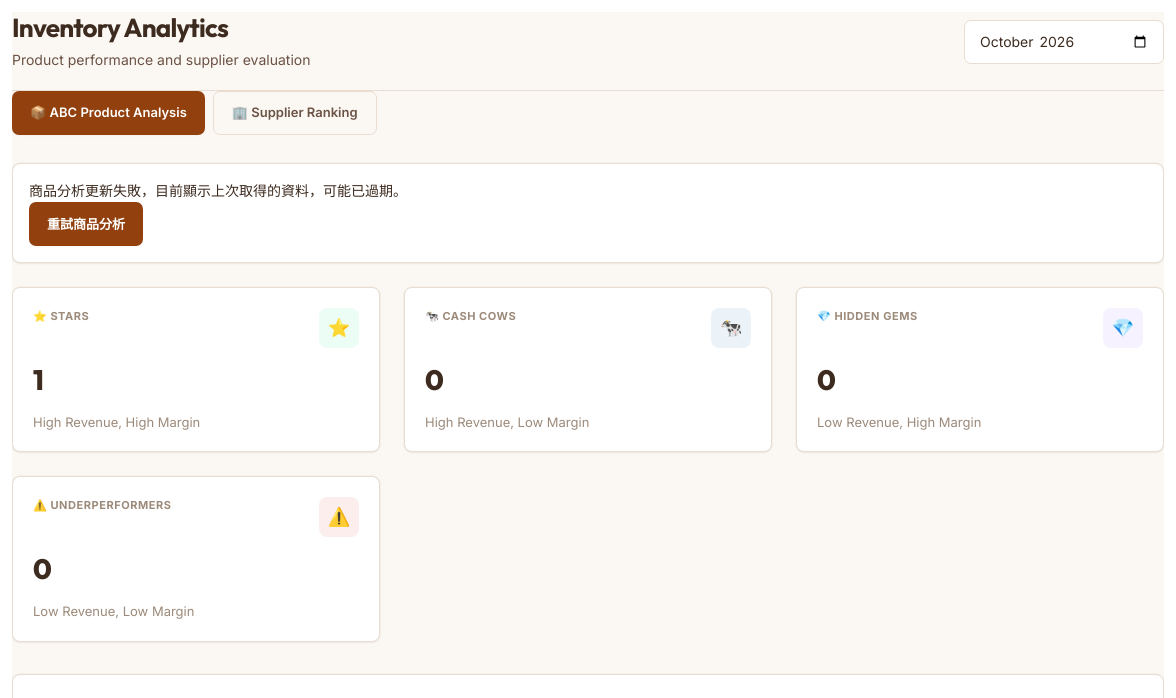
Test: inventory analytics read state with real QueryClient › preserves ordinary failed-refetch data with stale warning and recovers
The width and height of the screenshot is (1176, 698).
Click the button "重試商品分析" at (86,224), box [29,202,143,246]
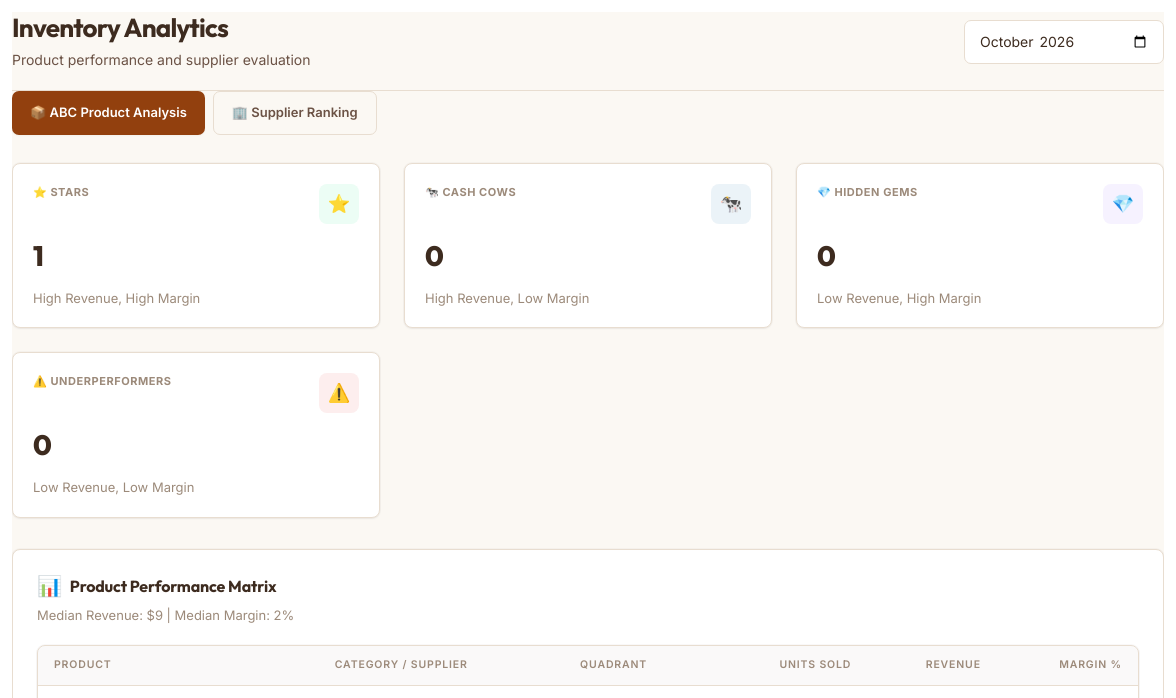
Expected: the message is gone
